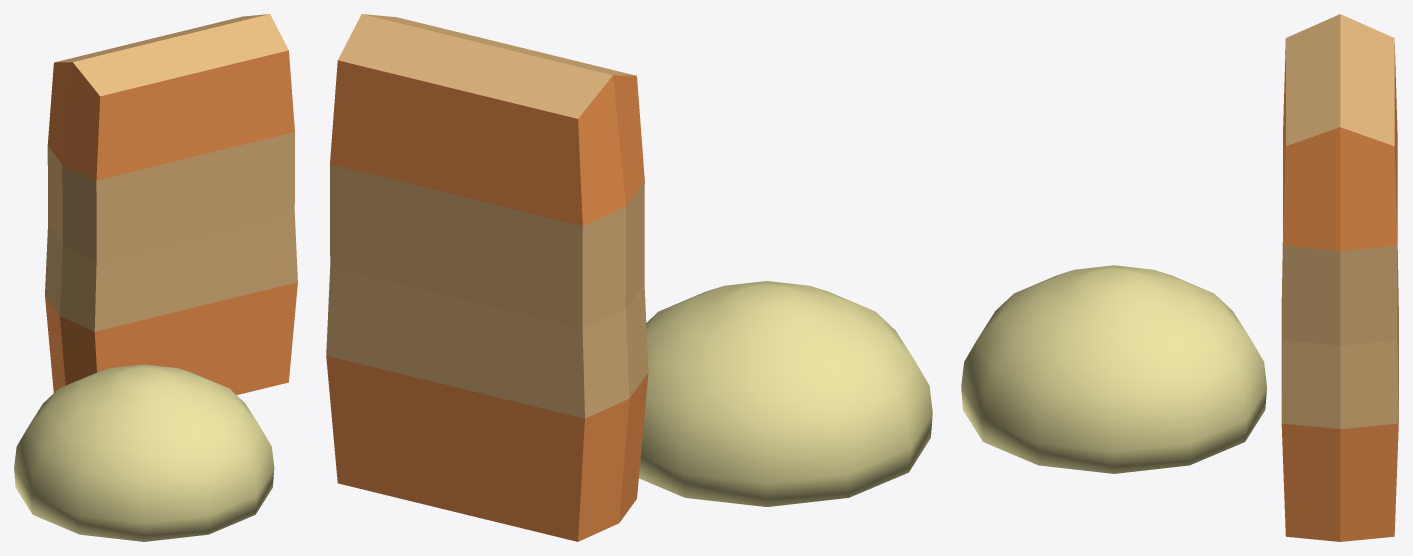
Rendered from dough.fbx.
3 renders of one model, left to right at view 1: azimuth 30°, elevation 25°; view 2: azimuth 150°, elevation 25°; view 3: azimuth 270°, elevation 25°, orthographic. The views are drawn at different scales.
Visible parts, largest first — view 1: dough; view 2: dough; view 3: dough.
Part boxes in pixels (x1,y1,x2,y2): dough: [14, 14, 297, 541]; dough: [326, 14, 932, 541]; dough: [961, 14, 1398, 541].
Size of the model in its own units: 54.69 by 52.7 by 50.74.
